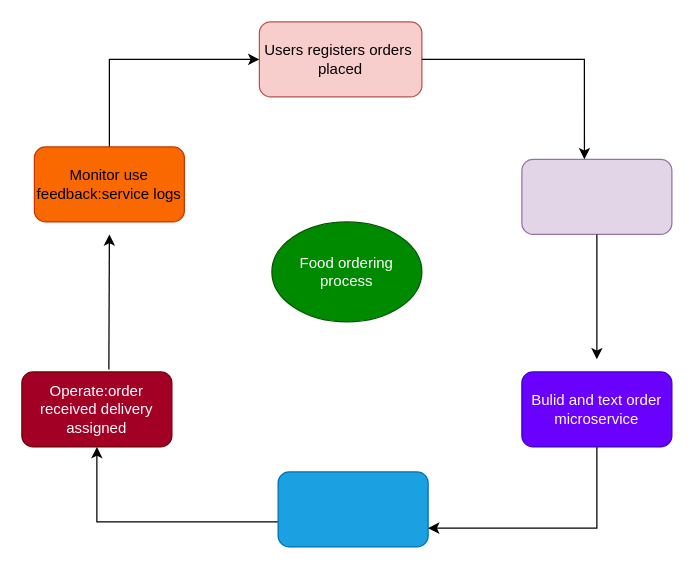
The diagram is 694 pixels wide and 569 high, and some of its shapes have lost their labels. Here are the shapes that lost their labels. From the top down, the centre of each, then its label:
[596,196]: Code chandes for order services
[352,509]: Deploy to cloud
